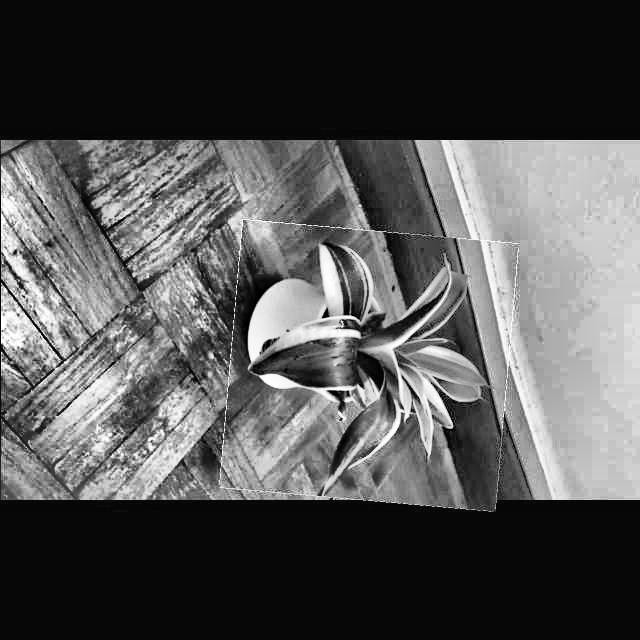plants: (225, 225, 512, 506)
